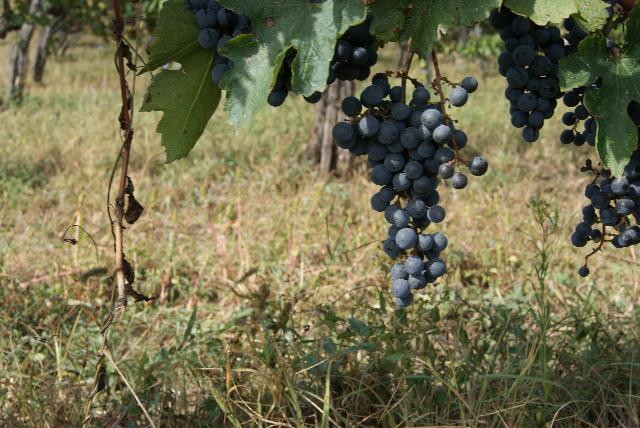grapes: (332, 79, 468, 308)
